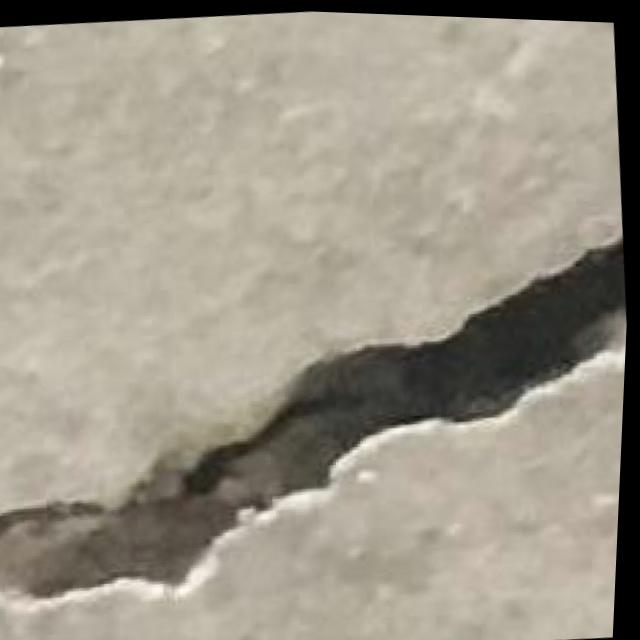Crack: (0, 194, 633, 640), (99, 232, 632, 537)
